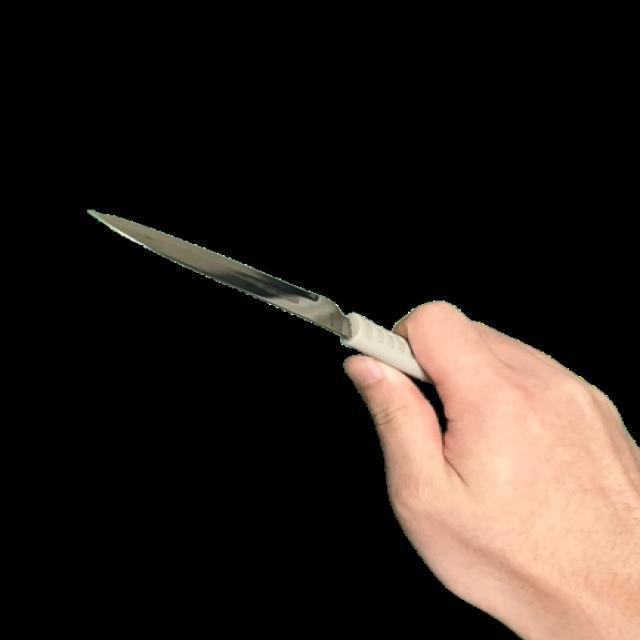knife: (72, 203, 429, 377)
